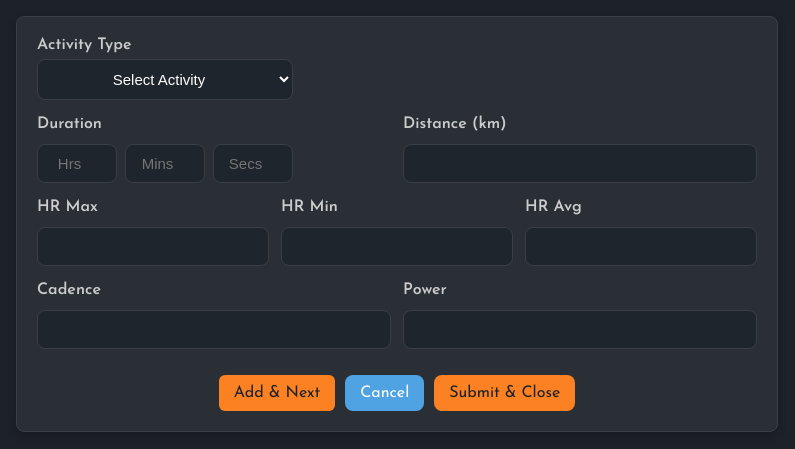
Test: ActivityForm (multi-sport session) › distance label switches to (m) when Swim is selected
Expected: the text "Distance (km)" is shown, [403,116,507,132]
Select "Swim" in the dropdown labelled "Activity Type" at (165, 80), box [37,59,293,100]
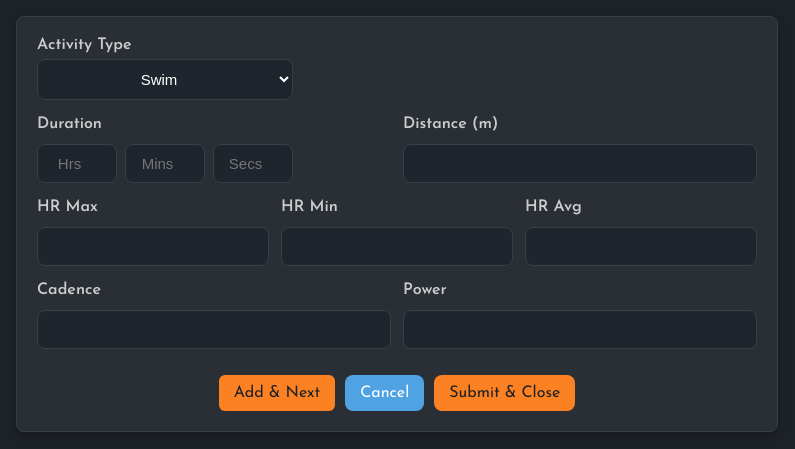
Now the text "Distance (m)" is shown, box [403,116,498,132]
